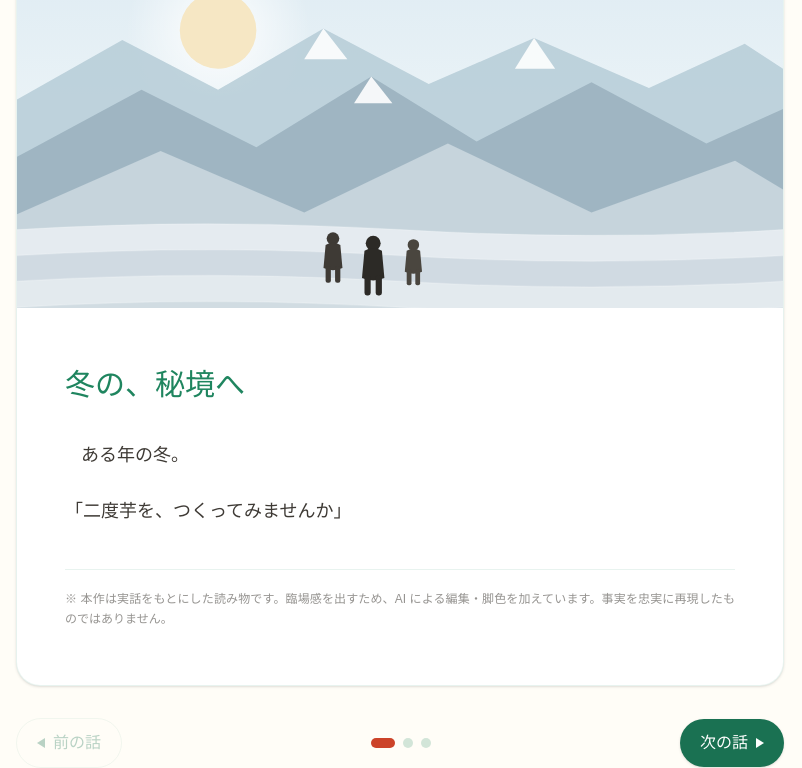
Test: StoryReader › 「次の話」で次ページへ進み、ハッシュが同期される
(page scrolled)
Click the button "次の話" at (732, 743), box [680,719,784,767]
(page scrolled)
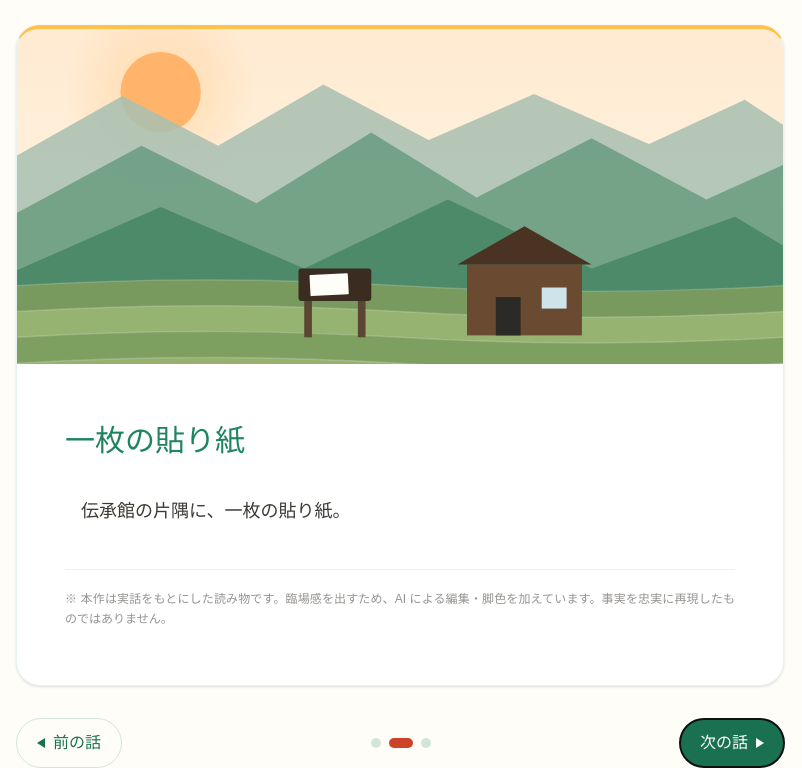
Now the heading "一枚の貼り紙" is shown, box [65,424,245,457]
